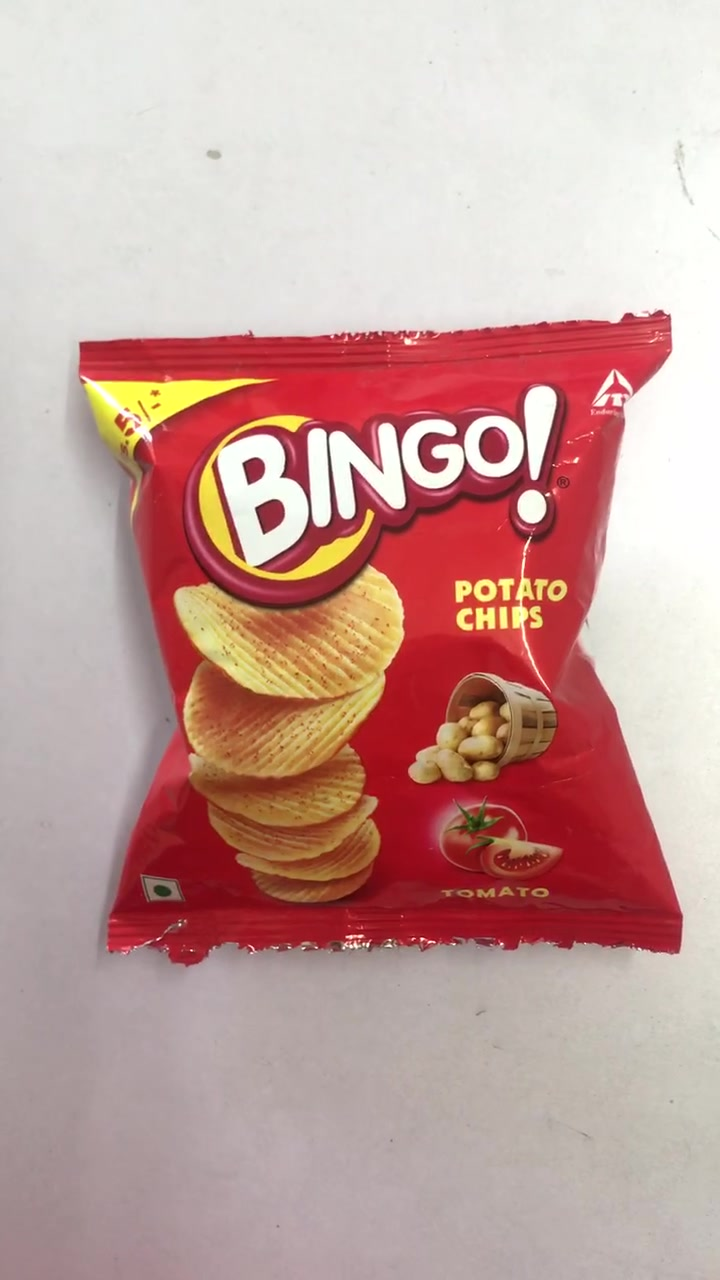Bingo: (87, 337, 673, 945)
